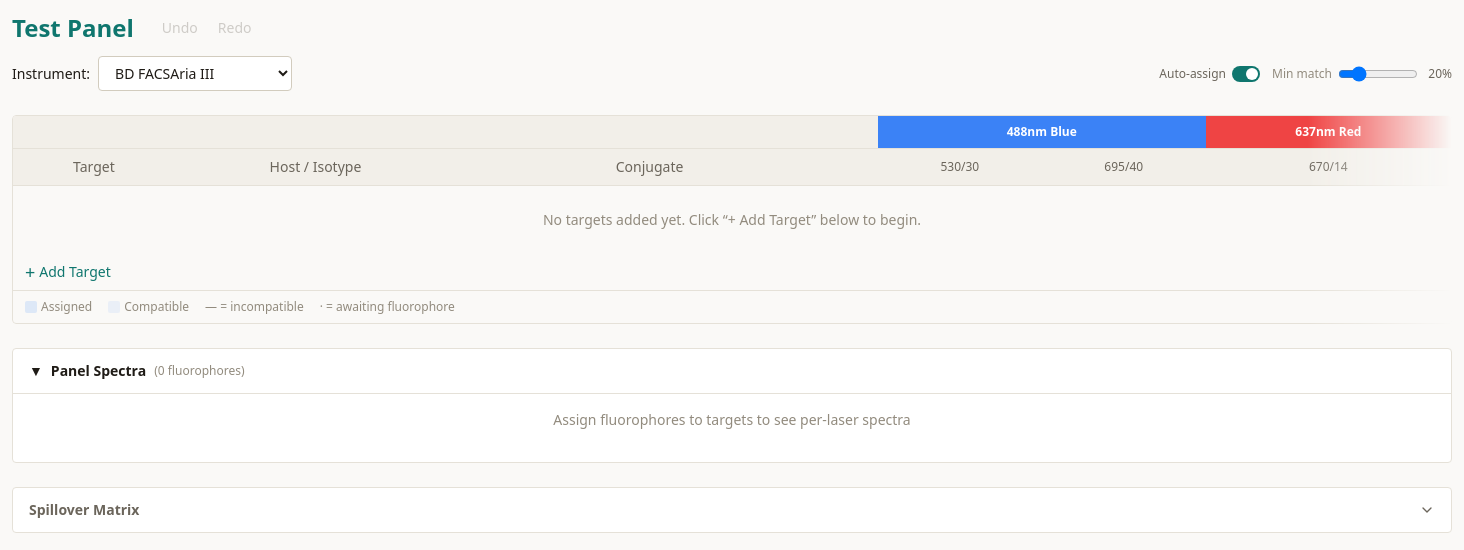
Test: PanelDesignerView › target table — empty state › empty state goes away after clicking "+ Add Target"
The image size is (1464, 550).
Click the button "+ Add Target". click: point(68, 272)
box: top-left (25, 262), bottom-right (111, 282)
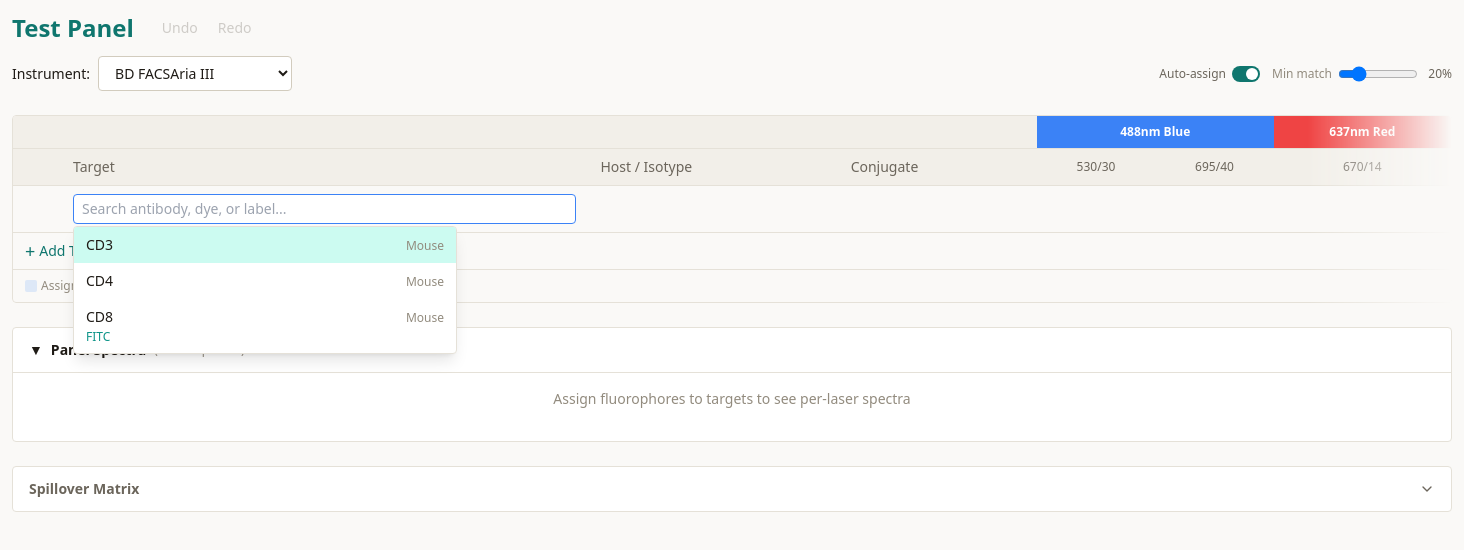
Expected: the text "No targets added yet" is gone
